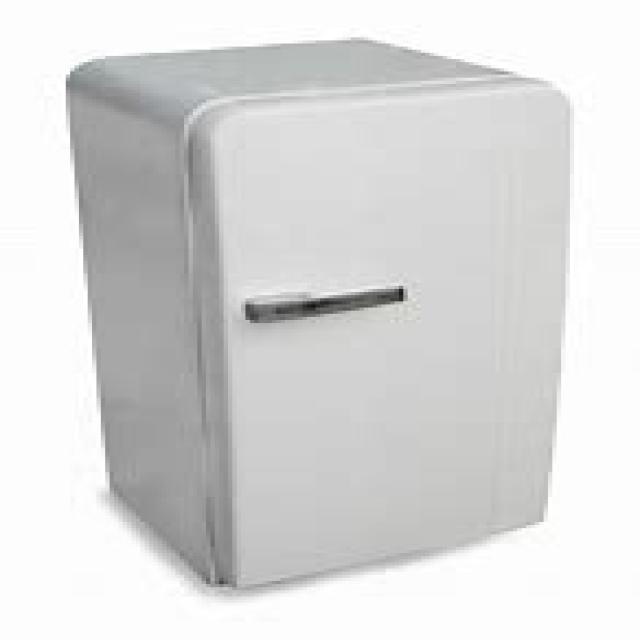fridge: (61, 34, 570, 587)
